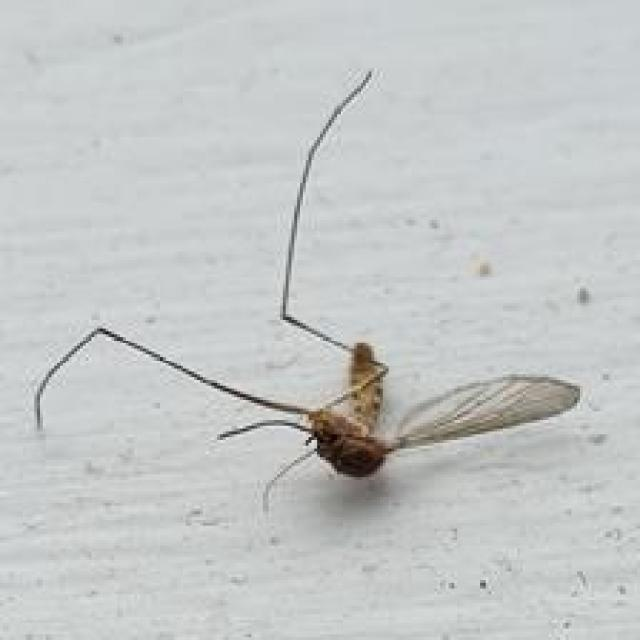Culex: (31, 67, 583, 513)
